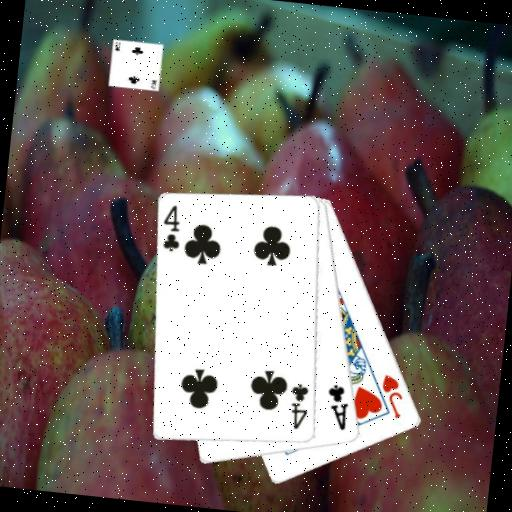4C: (157, 202, 186, 255), (285, 381, 313, 433)
AC: (321, 381, 353, 433)
JH: (376, 371, 407, 421)
